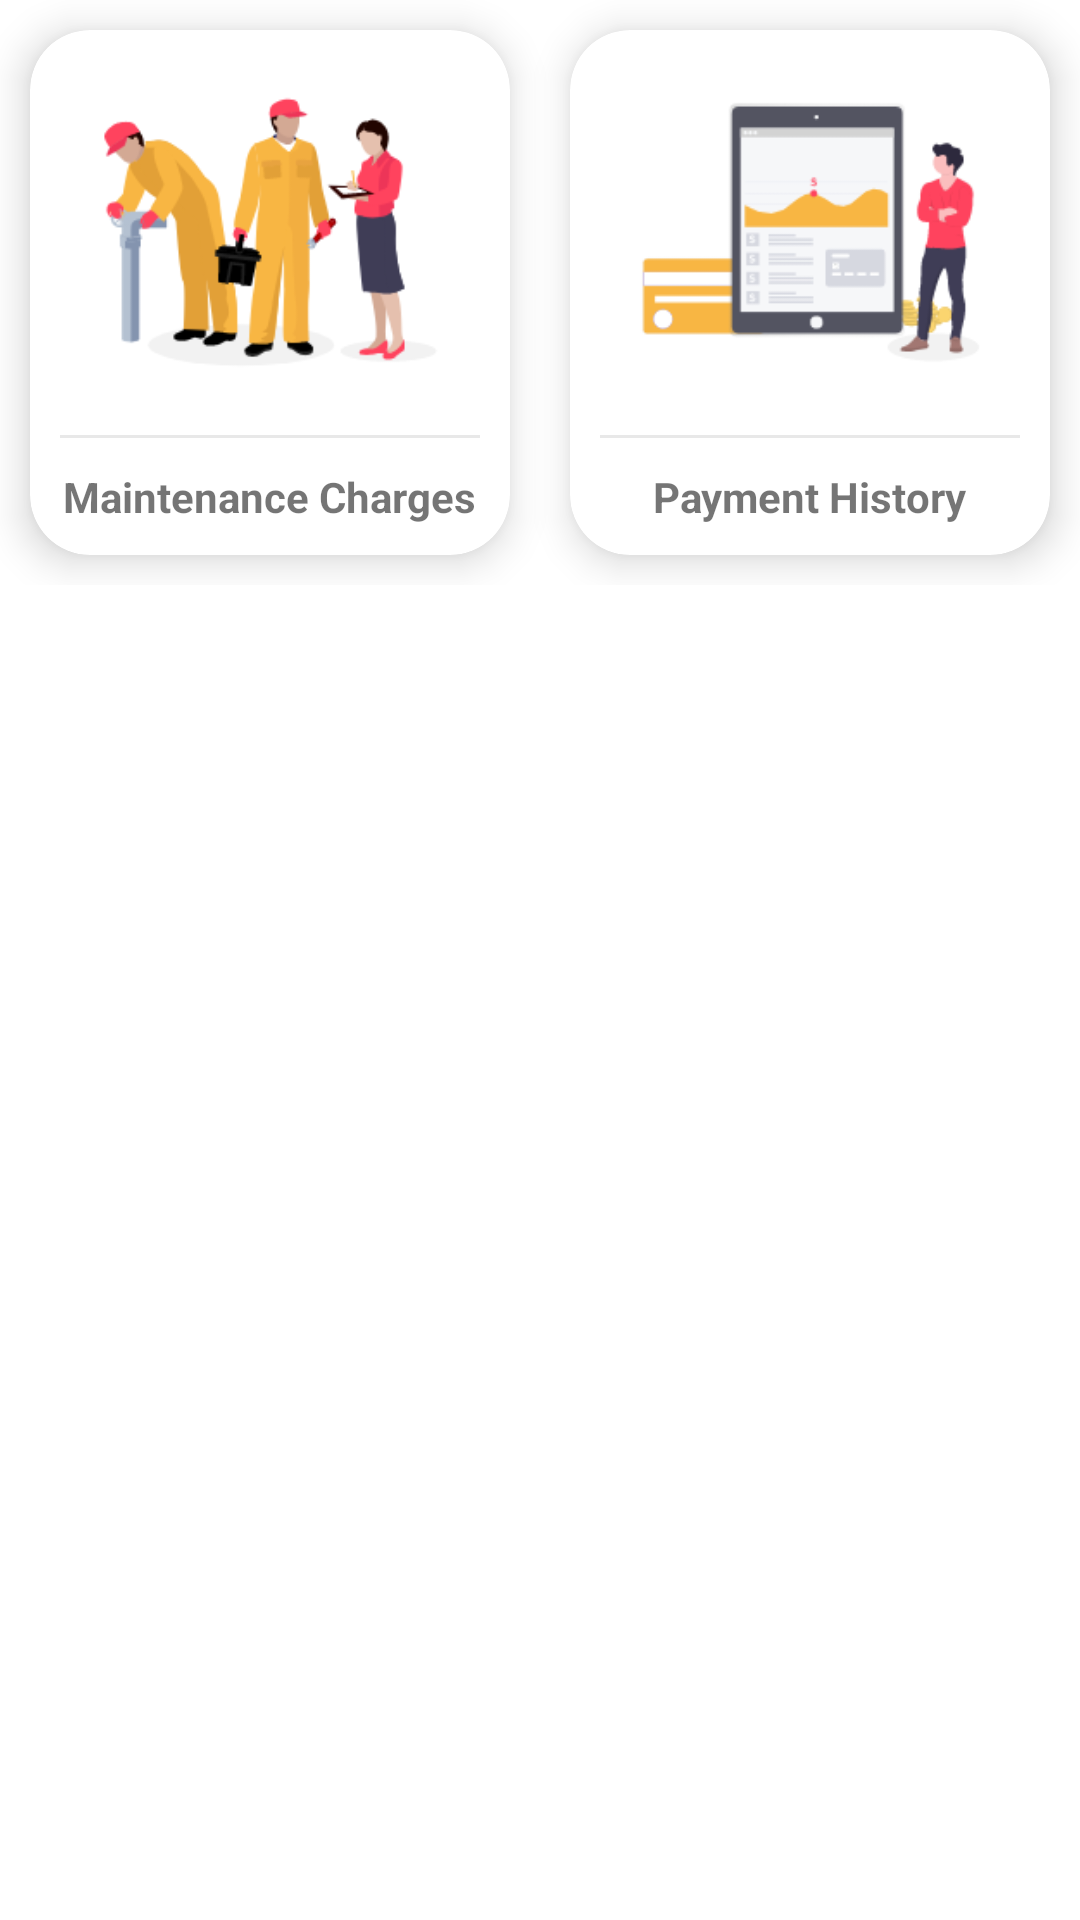

Point at icon controls on the screen. Image size 1080x1920, points as (x,y).
trackpayment: (808,229)
